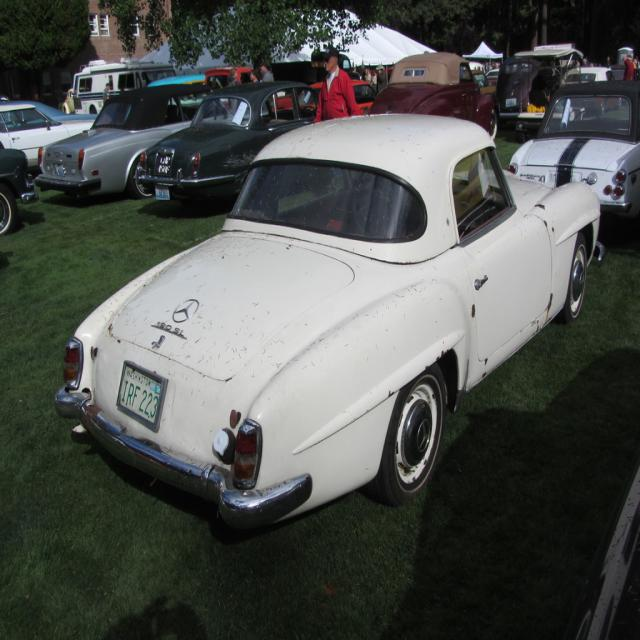car: (53, 110, 604, 502)
